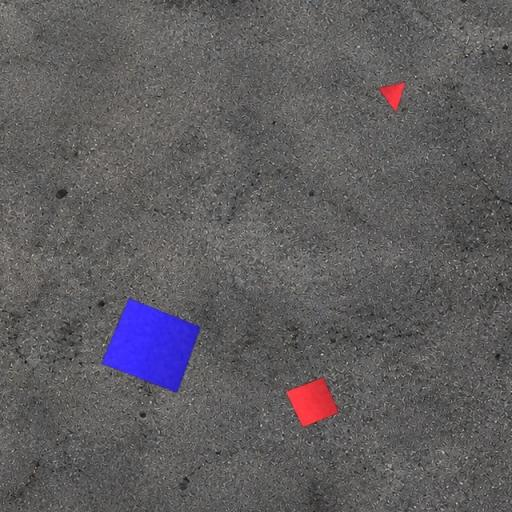BLUE_SQUARE: (100, 298, 202, 394)
RED_SQUARE: (285, 376, 340, 429)
